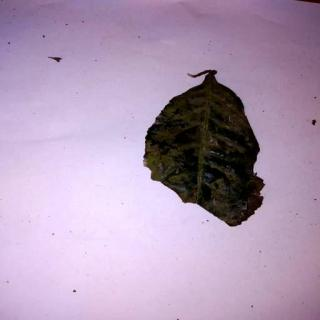Anthracnose: (142, 68, 267, 228)
